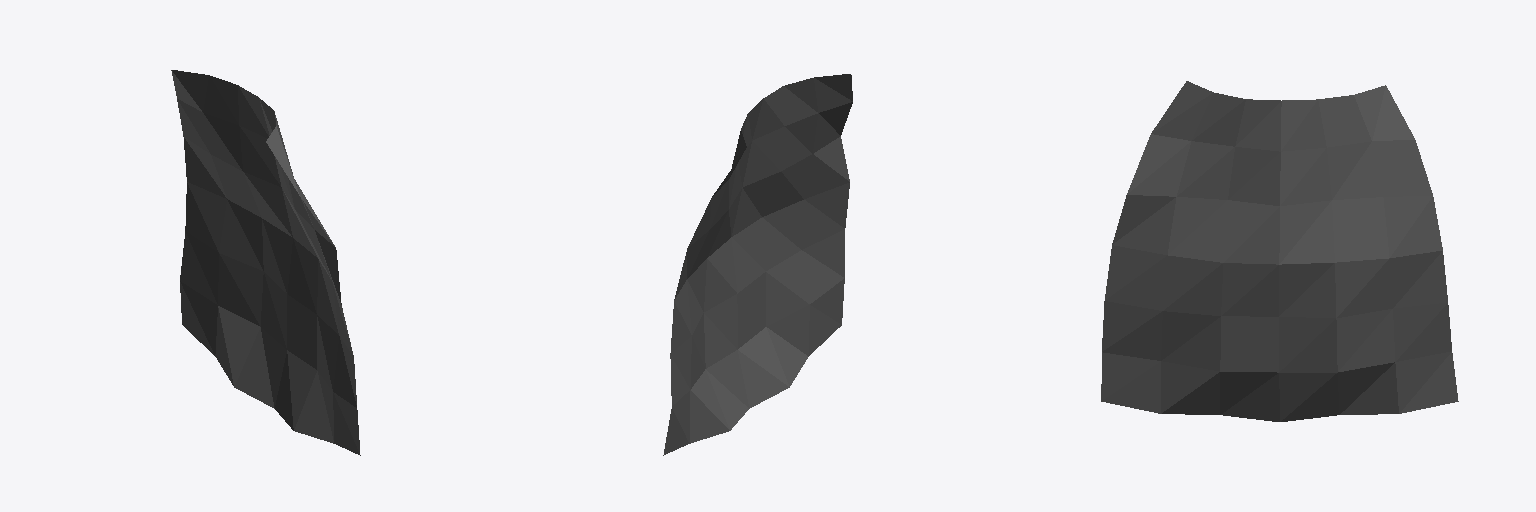
The model's file is legoDart_capa.obj.
The picture shows the model from 3 angles: view 1: azimuth 30°, elevation 25°; view 2: azimuth 150°, elevation 25°; view 3: azimuth 270°, elevation 25°; orthographic projection.
Parts seen in each view (by area): view 1: Box01.001; view 2: Box01.001; view 3: Box01.001.
Part boxes in pixels (left/top/right/bottom): Box01.001: left=171, top=70, right=360, bottom=455; Box01.001: left=663, top=74, right=852, bottom=455; Box01.001: left=1101, top=81, right=1458, bottom=421.
Size of the model in its own units: 0.6424 by 2.63 by 2.7.